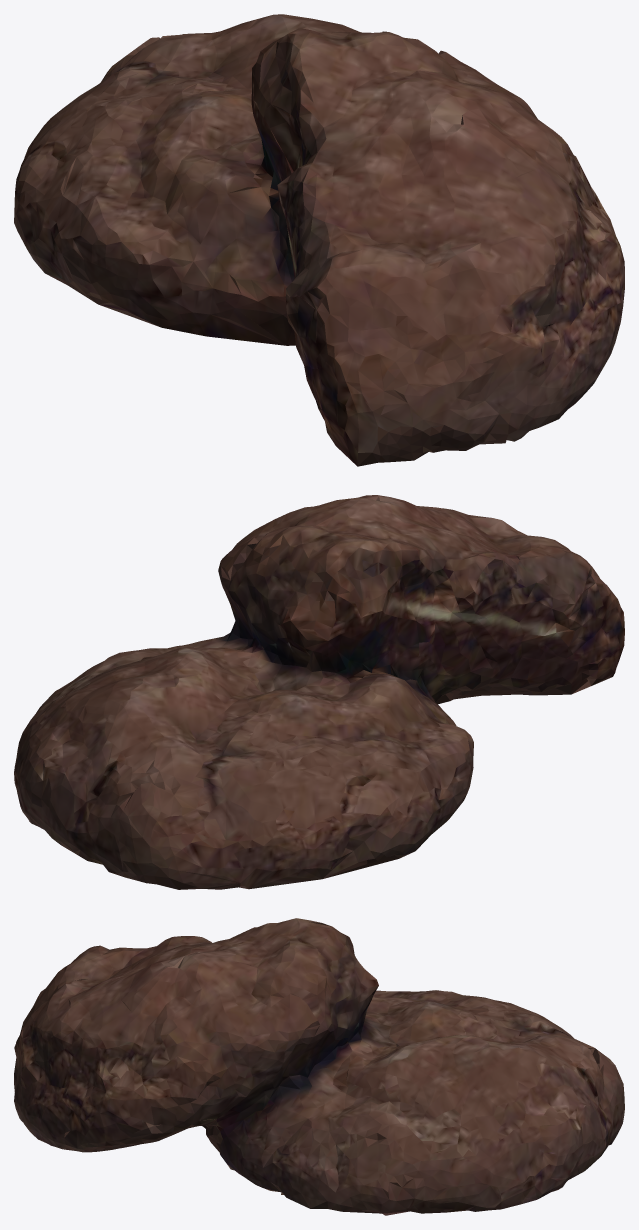
Rendered from chocolate-mint-stuffed-cookie.gltf.
3 views of the same model, one above another, from view 1: azimuth 30°, elevation 25°; view 2: azimuth 150°, elevation 25°; view 3: azimuth 270°, elevation 25° (orthographic). The views are drawn at different scales.
Visible parts, largest first — view 1: model_New Qlone_20221213_211317493; view 2: model_New Qlone_20221213_211317493; view 3: model_New Qlone_20221213_211317493.
Part boxes in pixels (<box>): model_New Qlone_20221213_211317493: <box>14,14,624,466</box>; model_New Qlone_20221213_211317493: <box>14,495,624,889</box>; model_New Qlone_20221213_211317493: <box>14,918,624,1215</box>.
Bounding box in the file's own units: 6.5 × 3.47 × 9.84.
Materials: 1 (1 with a texture image).
